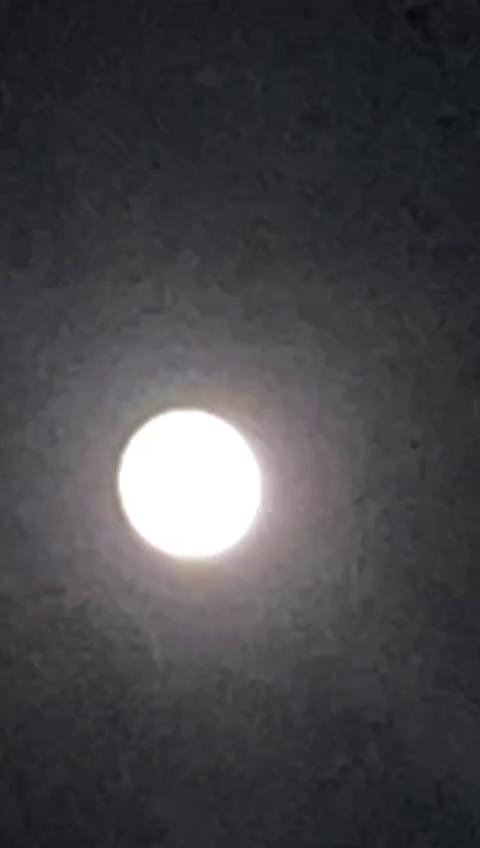moon: (101, 391, 268, 582)
